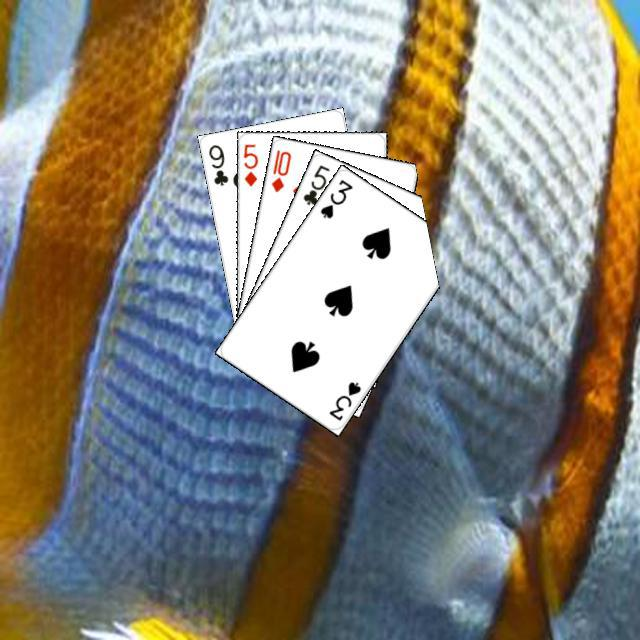10d: (266, 145, 293, 194)
3s: (315, 174, 354, 220), (324, 377, 363, 423)
5c: (298, 160, 331, 207)
5d: (239, 139, 260, 188)
9c: (203, 140, 230, 187)
